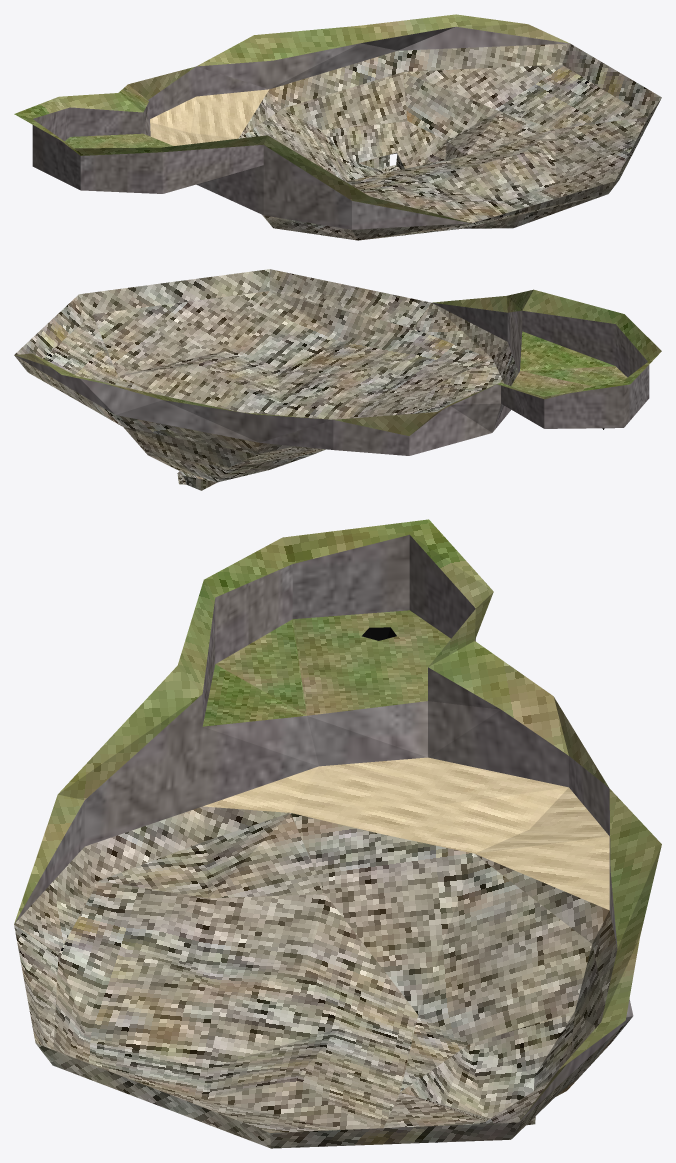
Rendered from drip_drum_beach_PREISLAND3.fbx.
The picture shows the model from 3 angles, top to bottom: view 1: azimuth 30°, elevation 25°; view 2: azimuth 150°, elevation 25°; view 3: azimuth 270°, elevation 25°; orthographic projection. The views are drawn at different scales.
Visible parts, largest first — view 1: world; view 2: world; view 3: world.
Boxes of the visible parts, left/top/right/bottom form: world: left=14, top=14, right=661, bottom=240; world: left=14, top=269, right=661, bottom=490; world: left=14, top=519, right=661, bottom=1148.
Size of the model in its own units: 16.32 by 9.6 by 4.7.
Materials: 5 (4 with a texture image).
